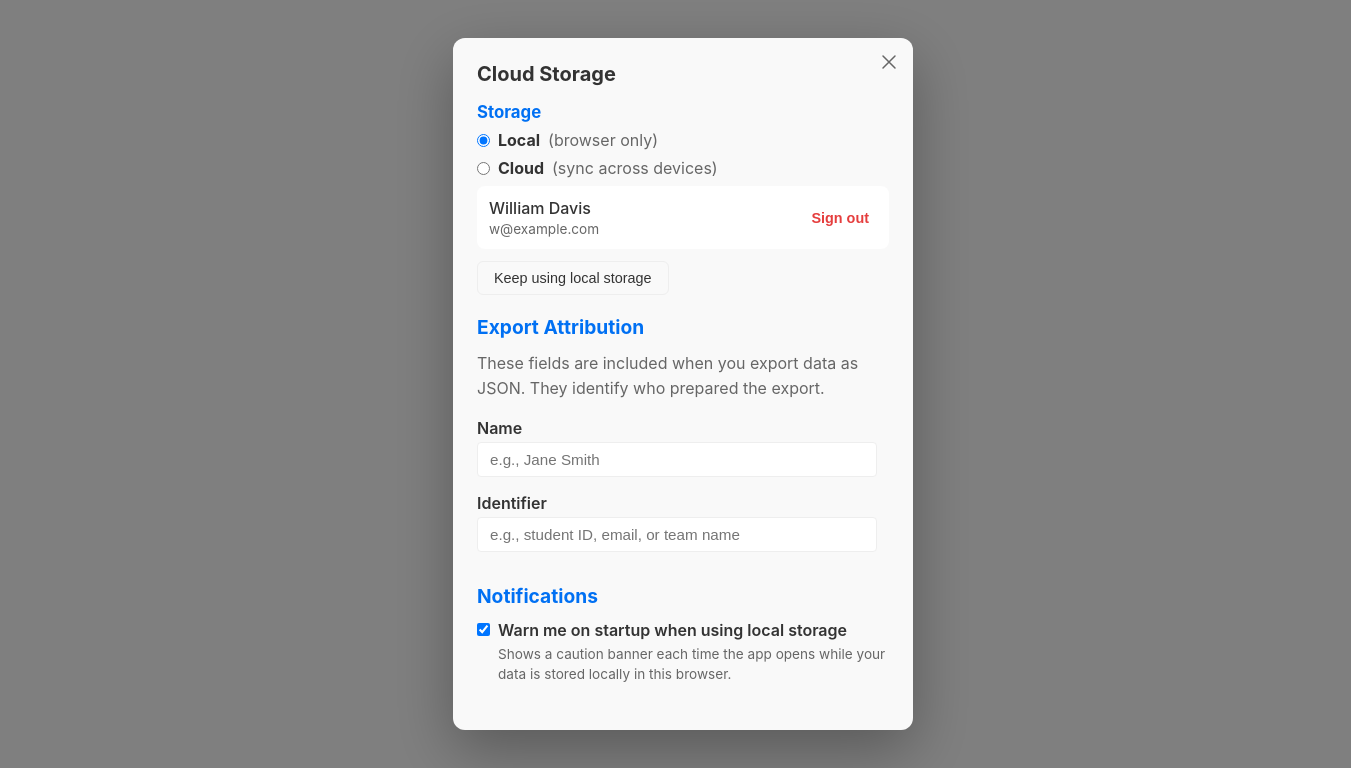
Test case: CloudStorageModal › State 2: signed in + local › choosing Cloud with local projects asks to upload them before switching
Click the radio button showing "cloud". click: [484, 168]
box: [477,162,490,175]
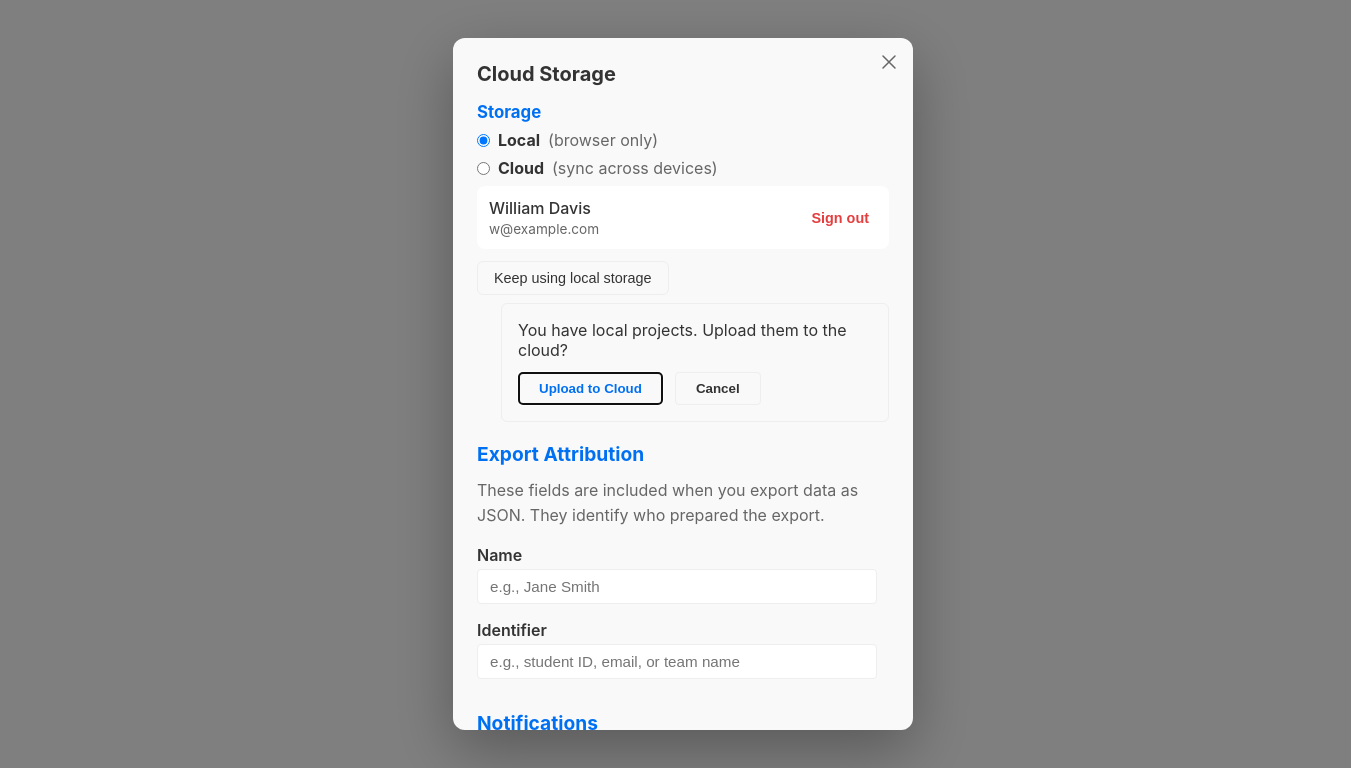
Now the text "You have local projects. Upload them to the cloud?" is shown, box [518,320,872,360]
Now the button "Upload to Cloud" is shown, box [518,372,663,405]
